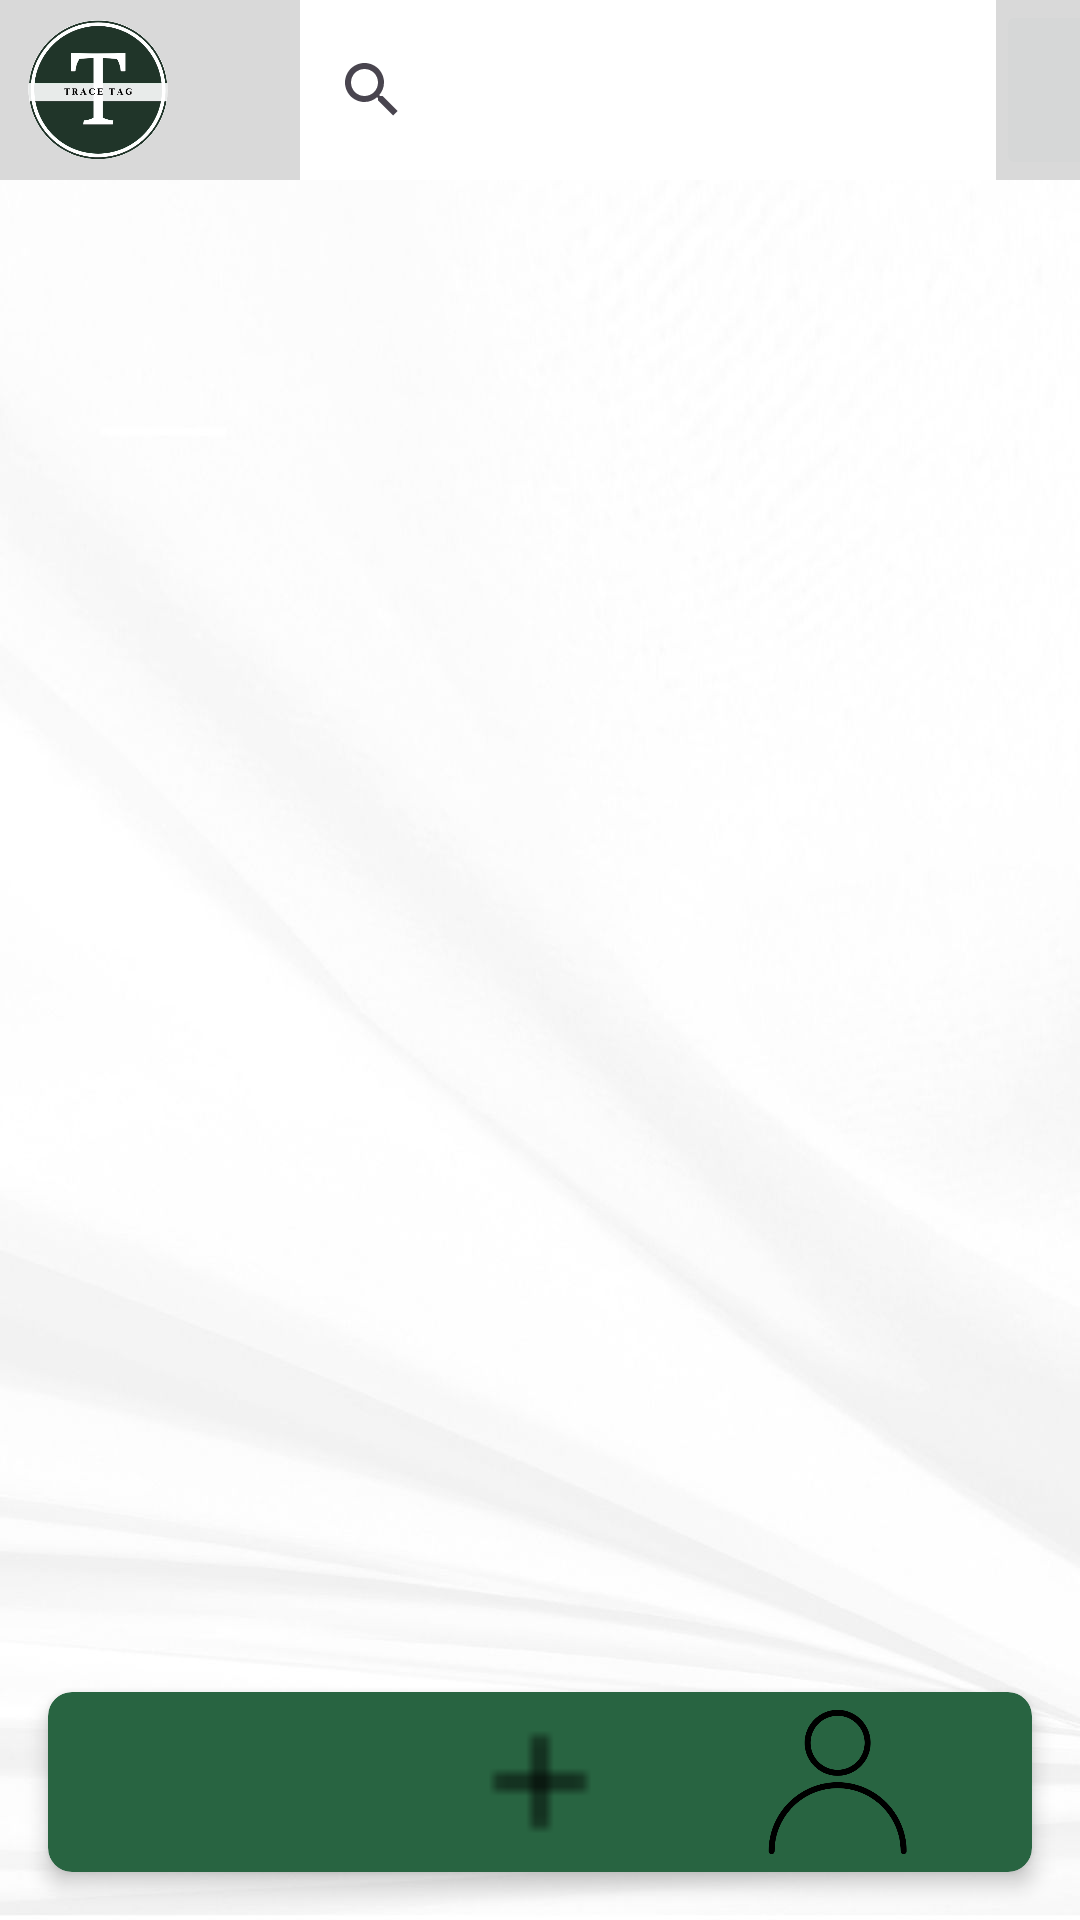

Icons on this 1080w x 1920h Android screen, each with its box as (x1, y1, x2, y2):
add: (494, 1736, 586, 1828)
user: (769, 1710, 907, 1854)
